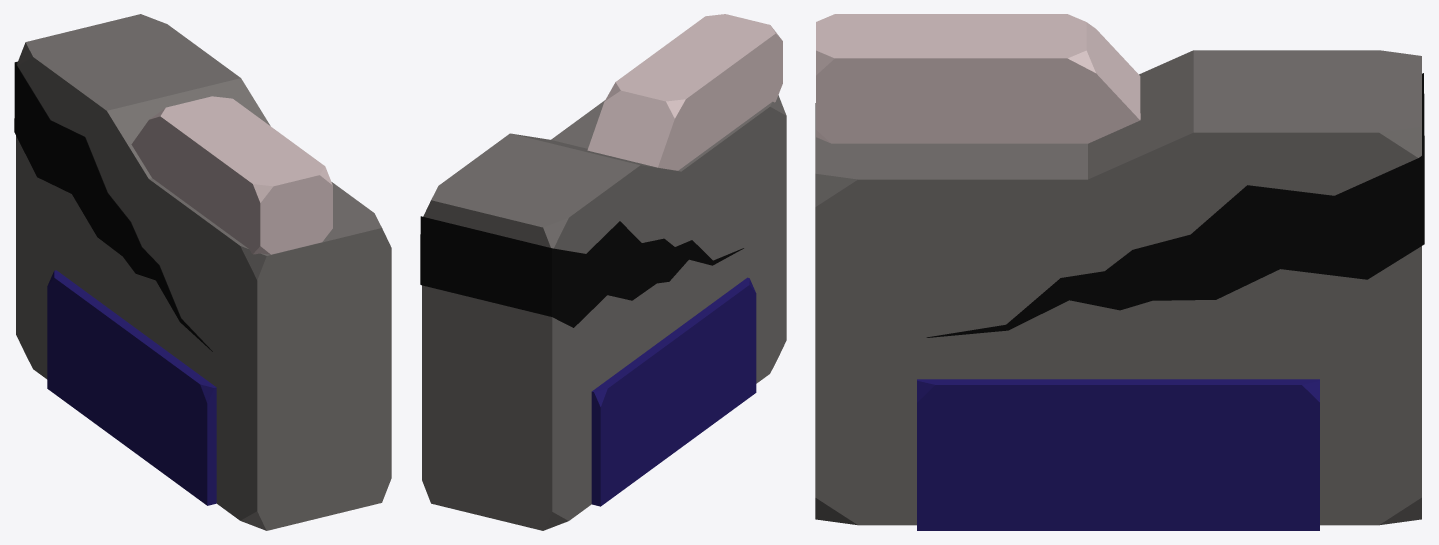
3 renders of one model, left to right at view 1: azimuth 30°, elevation 25°; view 2: azimuth 150°, elevation 25°; view 3: azimuth 270°, elevation 25°, orthographic. The views are drawn at different scales.
Parts seen in each view (by area): view 1: file2; view 2: file2; view 3: file2.
Part boxes in pixels (box(x1,y1,x2,y2)): file2: box(14, 14, 391, 530); file2: box(420, 14, 786, 530); file2: box(815, 14, 1424, 530).
Size of the model in its own units: 102 by 219 by 281.
